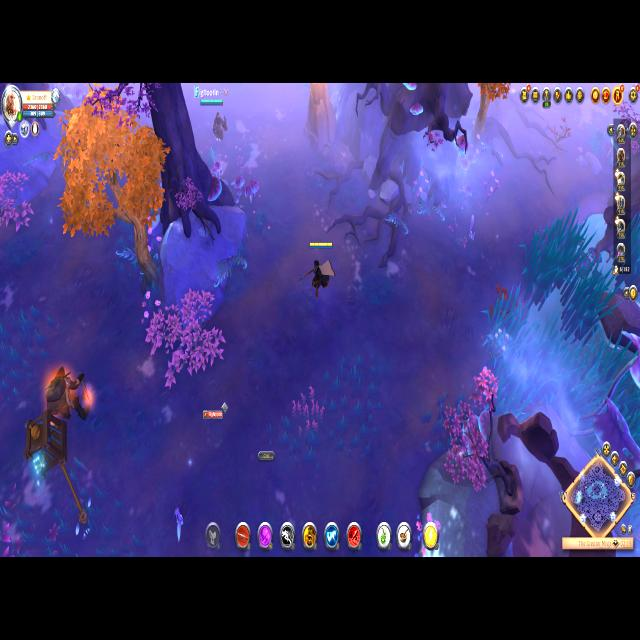ore: (41, 364, 99, 427)
red: (191, 82, 237, 144)
tree: (299, 84, 343, 152)
wisp caged: (59, 85, 168, 296), (464, 84, 514, 150)
